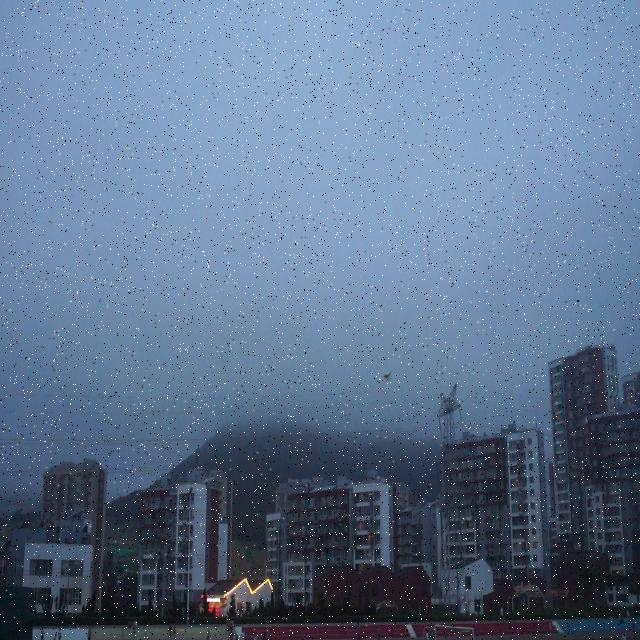UAV: (381, 370, 393, 383)
